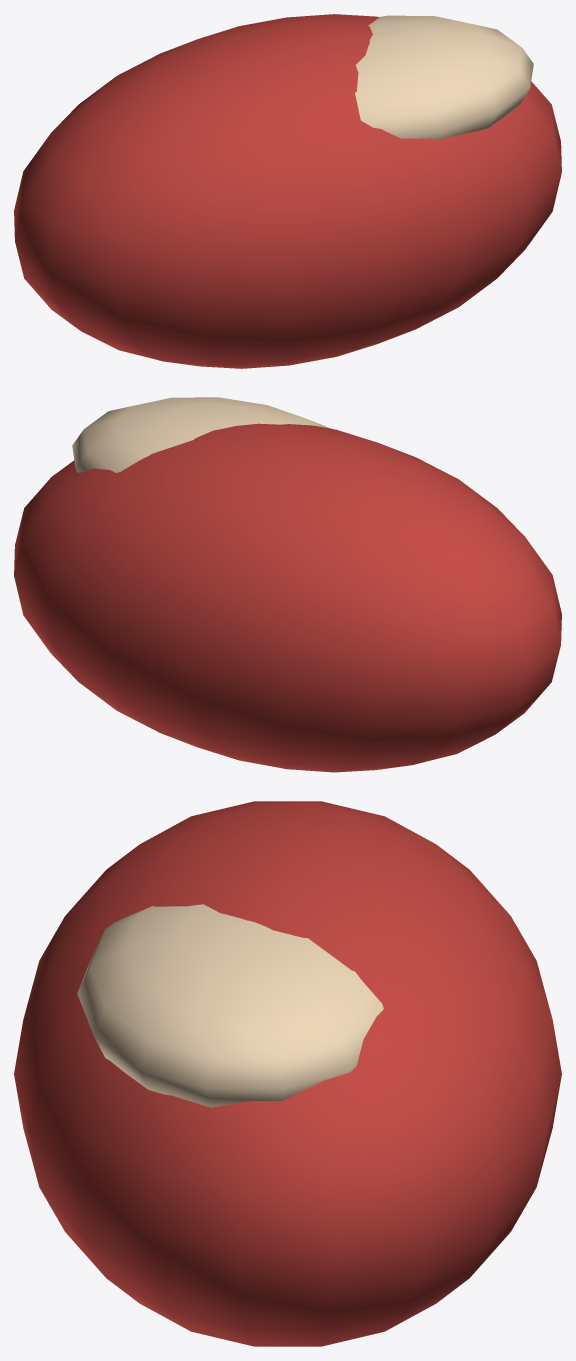
Rendered from meat.glb.
The picture shows the model from 3 angles, top to bottom: view 1: azimuth 30°, elevation 25°; view 2: azimuth 150°, elevation 25°; view 3: azimuth 270°, elevation 25°; orthographic projection. The views are drawn at different scales.
Visible parts, largest first — view 1: meat_main, fat_cap; view 2: meat_main, fat_cap; view 3: meat_main, fat_cap.
Part boxes in pixels (bbox=[...]): meat_main: bbox=[14, 14, 561, 368]; fat_cap: bbox=[355, 15, 533, 139]; meat_main: bbox=[14, 423, 561, 772]; fat_cap: bbox=[72, 397, 330, 472]; meat_main: bbox=[14, 801, 561, 1346]; fat_cap: bbox=[77, 904, 383, 1107].
Size of the model in its own units: 0.3939 by 0.22 by 0.26.
